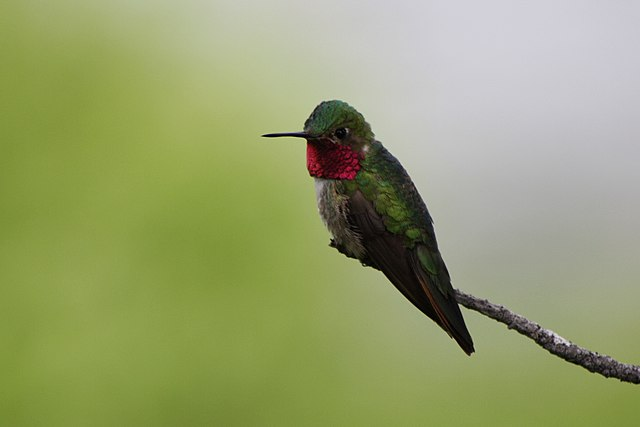selasphorus platycercus: (257, 94, 475, 356)
